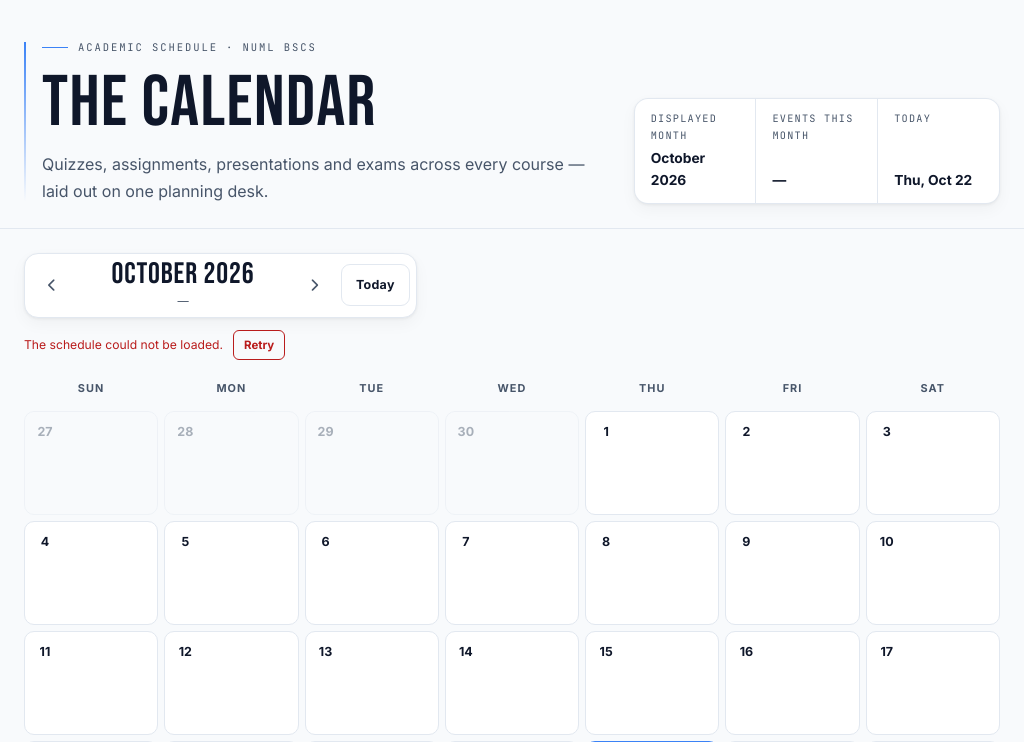
Test: CalendarPage › shows an error state with a working retry when the range read fails
The image size is (1024, 742).
Expected: the text "The schedule could not be loaded." is shown, top-left (24, 335), bottom-right (223, 354)
Click the button "Retry". click: coordinates (259, 345)
box: top-left (233, 330), bottom-right (285, 360)
(page scrolled)
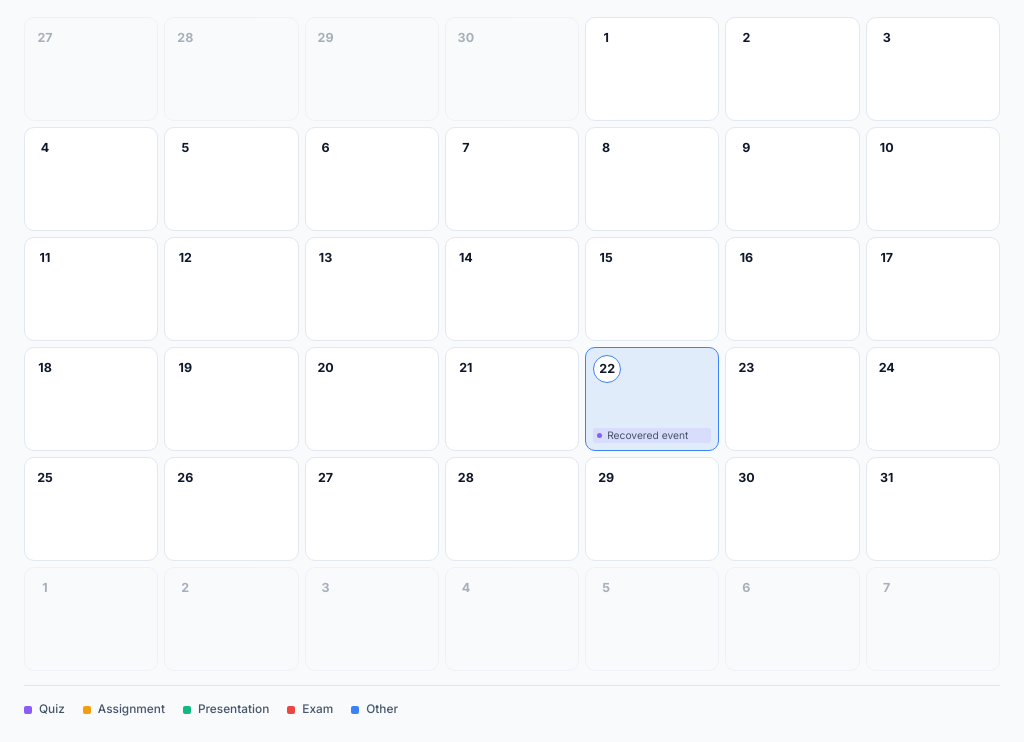
Expected: the button with aria-label "Thursday, October 22, 2026. 1 event." is shown, top-left (585, 347), bottom-right (719, 451)
